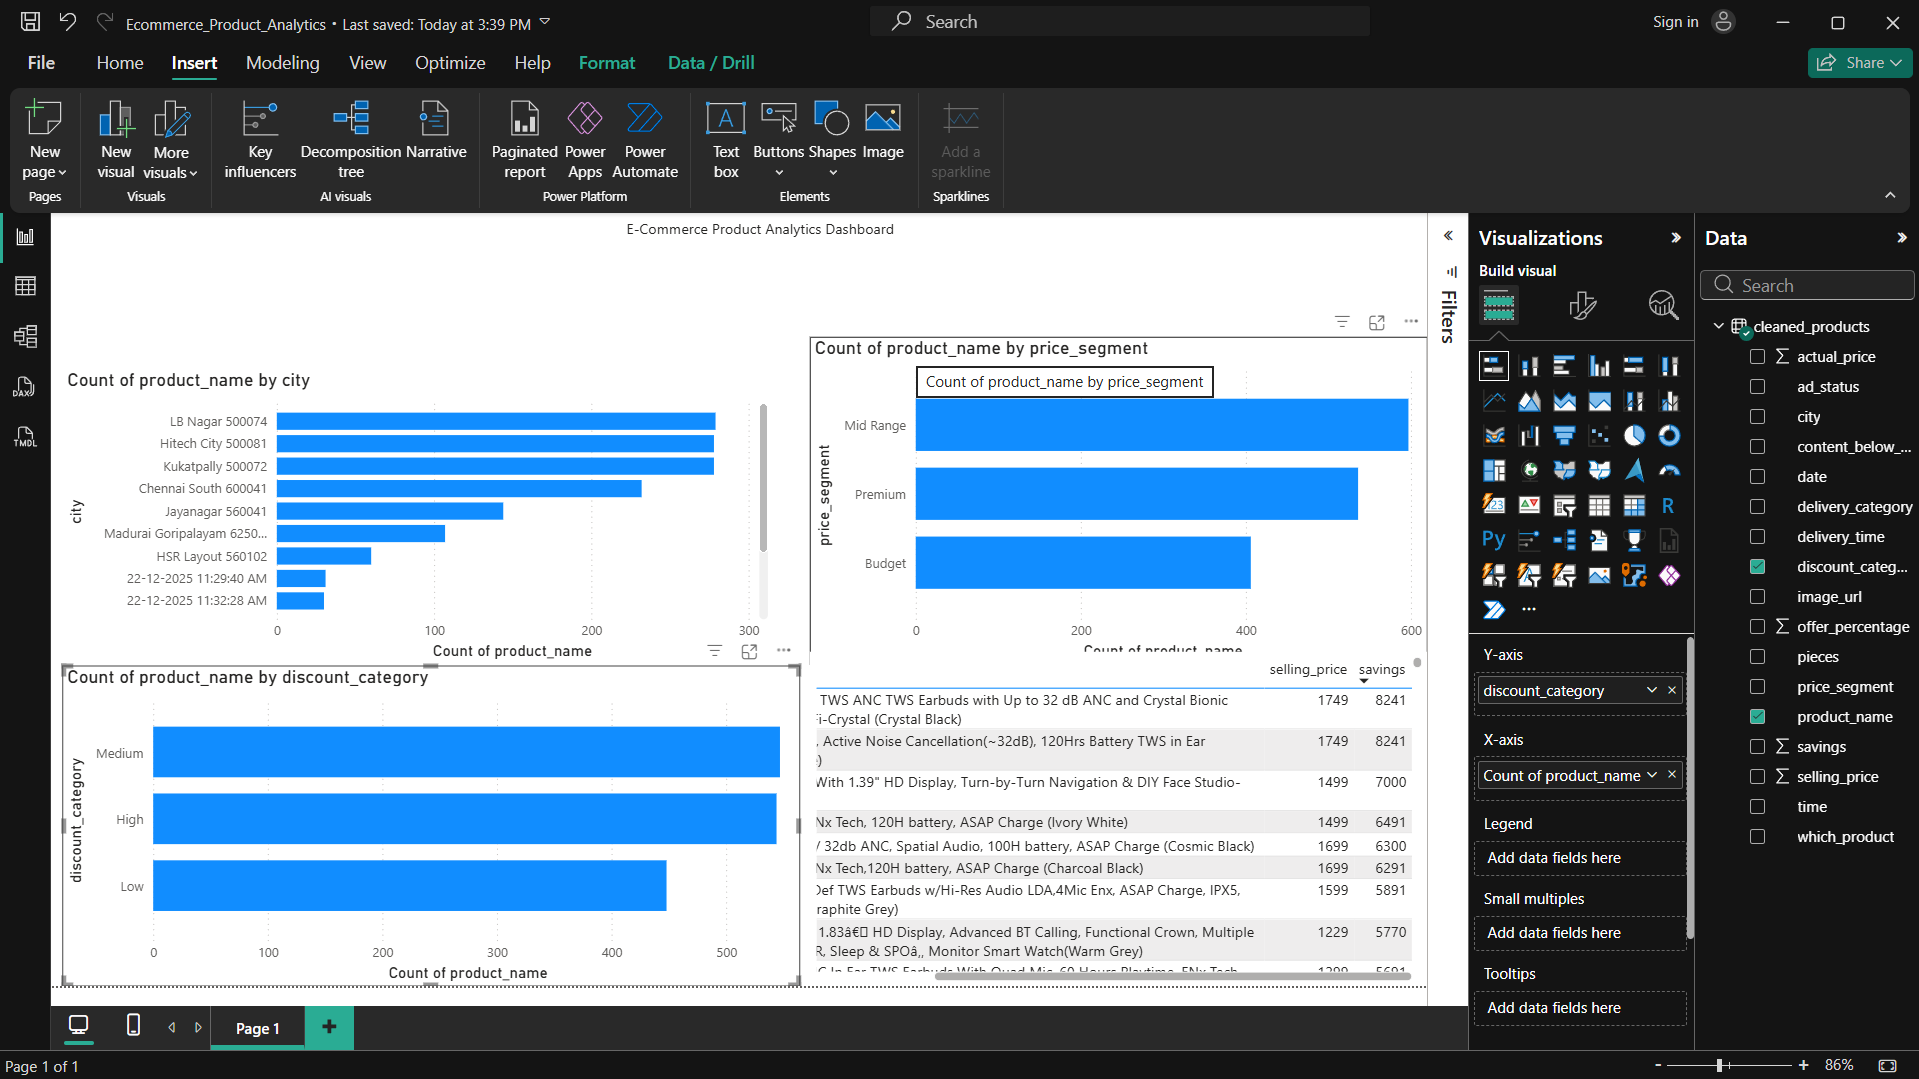

Layout of this report page (visuals, bound fields, positions):
{"tool":"powerbi","page":{"name":"Page 1","canvas":[1280,720],"ordinal":0},"visuals":[{"type":"barChart","fields":{"Category":["cleaned_products.city"],"Y":["CountNonNull(cleaned_products.product_name)"]},"box":[10.5,145.3,661.6,275.6],"z":0},{"type":"barChart","fields":{"Category":["cleaned_products.discount_category"],"Y":["CountNonNull(cleaned_products.product_name)"]},"box":[10.5,420.9,686,298.8],"z":1000},{"type":"barChart","fields":{"Category":["cleaned_products.price_segment"],"Y":["CountNonNull(cleaned_products.product_name)"]},"box":[705.8,115.1,574.4,305.8],"z":2000},{"type":"tableEx","fields":{"Values":["cleaned_products.product_name","cleaned_products.selling_price","cleaned_products.savings"]},"box":[705.8,408.1,574.4,311.6],"z":3000},{"type":"textbox","box":[275.6,0,768.6,90.7],"z":4000}]}

Visuals, with their boxes on the page's 1280x720 design canvas (x1, y1, x2, y2). These are canvas units, not pixel positions in the 1919x1079 screenshot, which may show the page scaled, cropped or inside an application window:
barChart - cleaned_products.city x CountNonNull(cleaned_products.product_name): bbox(10, 145, 672, 421)
barChart - cleaned_products.discount_category x CountNonNull(cleaned_products.product_name): bbox(10, 421, 696, 720)
barChart - cleaned_products.price_segment x CountNonNull(cleaned_products.product_name): bbox(706, 115, 1280, 421)
tableEx - cleaned_products.product_name x cleaned_products.selling_price: bbox(706, 408, 1280, 720)
textbox: bbox(276, 0, 1044, 91)
